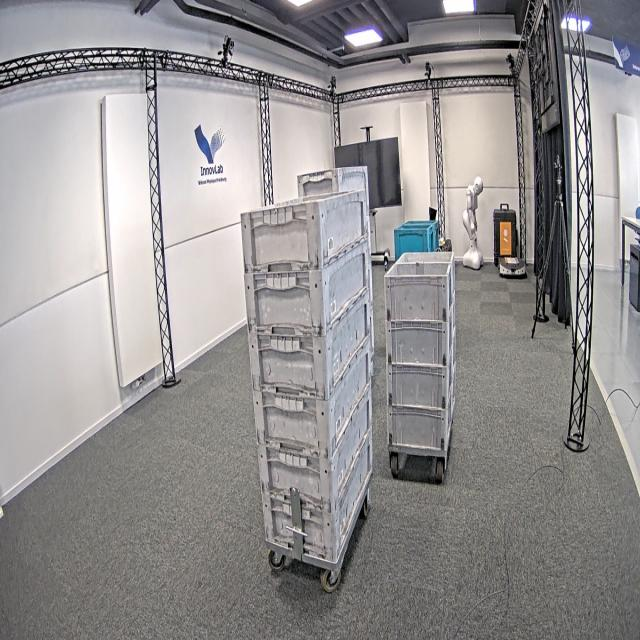Box3G: (262, 429, 373, 560), (258, 384, 372, 510), (246, 289, 372, 400), (252, 334, 372, 449), (244, 236, 374, 334), (242, 188, 369, 270)
Box4G: (298, 164, 369, 241)
Box8G: (384, 253, 452, 324), (388, 403, 451, 457), (386, 361, 452, 410), (384, 320, 452, 365)
BoxB8: (393, 222, 435, 260)
